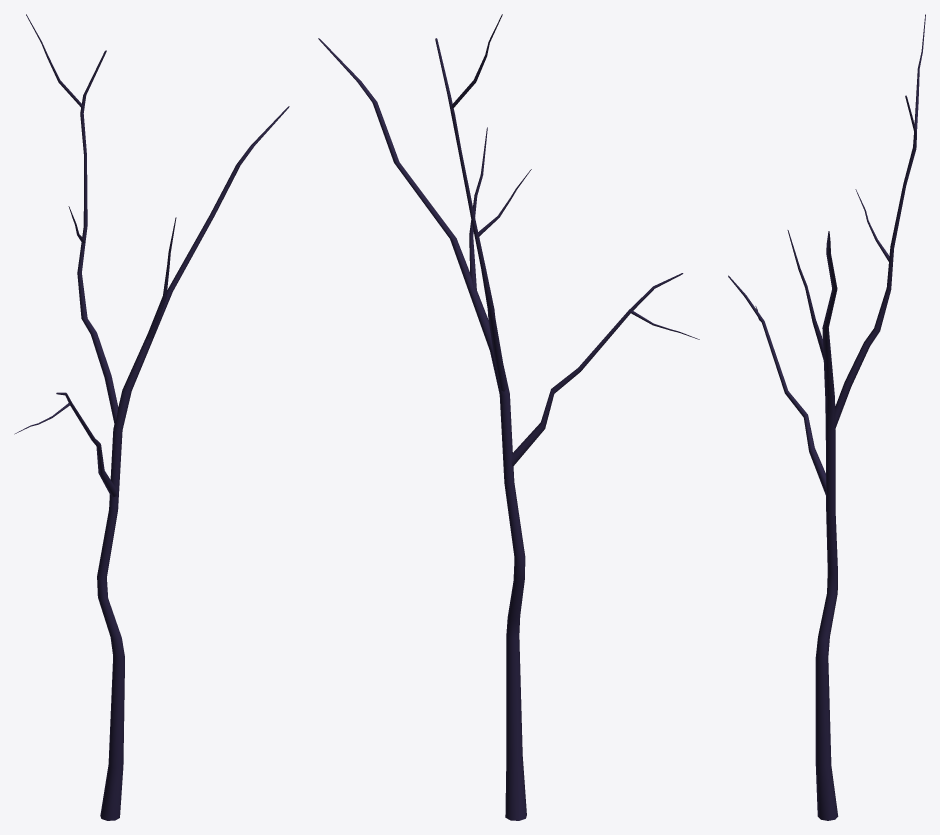
The model's file is cmc_bareaspen.fbx.
3 renders of one model, left to right at view 1: azimuth 30°, elevation 25°; view 2: azimuth 150°, elevation 25°; view 3: azimuth 270°, elevation 25°, orthographic. The views are drawn at different scales.
Parts seen in each view (by area): view 1: bare_aspen_tree_LOD0; view 2: bare_aspen_tree_LOD0; view 3: bare_aspen_tree_LOD0.
Boxes of the visible parts, box(x1,y1,x2,y2) form: bare_aspen_tree_LOD0: box(14, 14, 289, 820); bare_aspen_tree_LOD0: box(318, 14, 699, 820); bare_aspen_tree_LOD0: box(728, 14, 925, 820).
Size of what is drawn, in the model's own units: 6.07 by 14.43 by 3.3.
